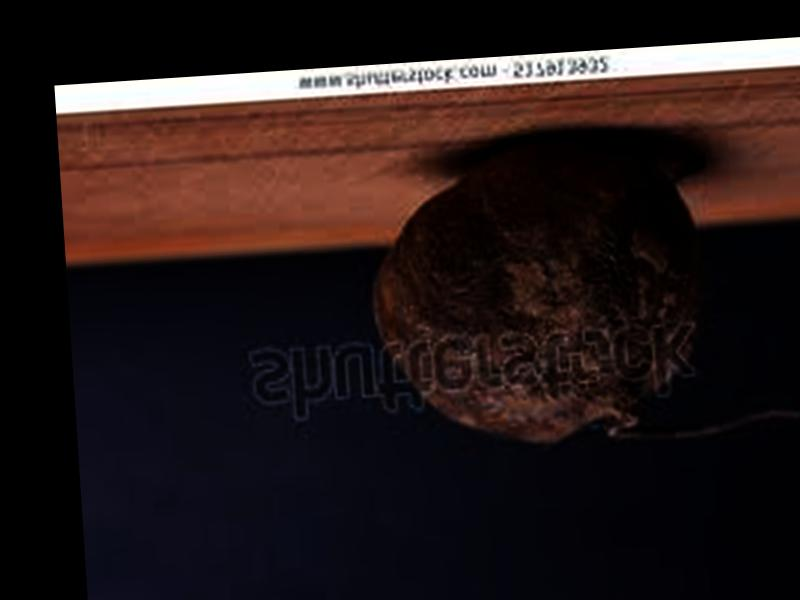Beet: (364, 126, 800, 460)
